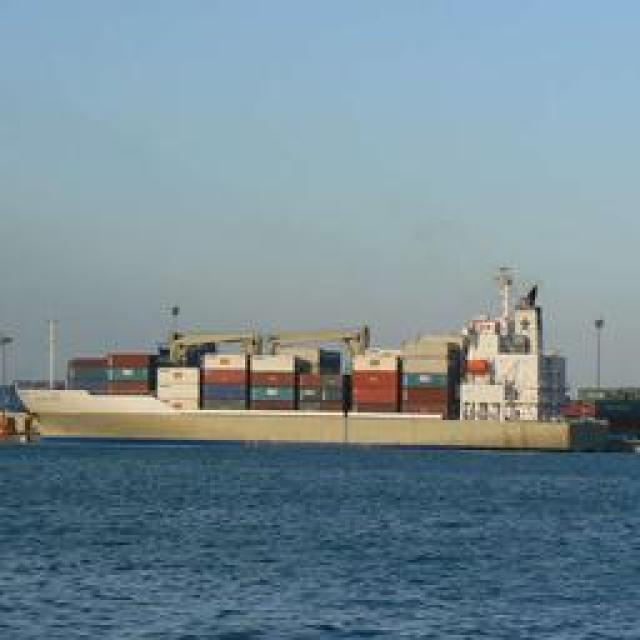CIV_Ship: (16, 288, 616, 452)
